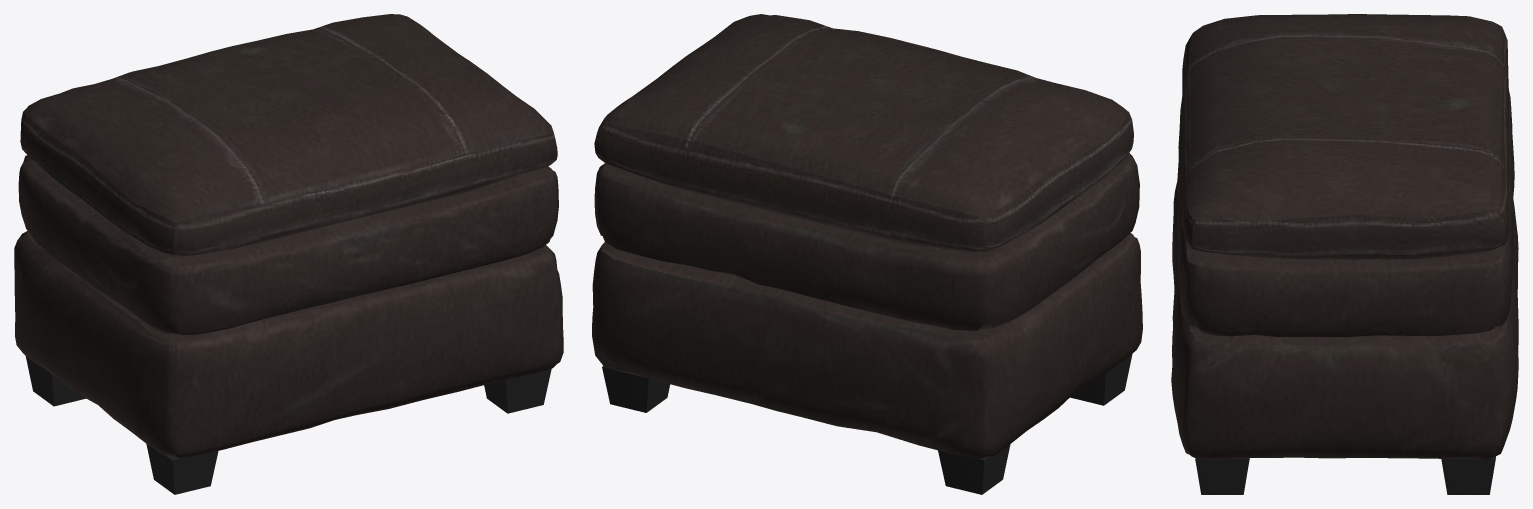
The model's file is ottoman_01.glb.
The picture shows the model from 3 angles, left to right: view 1: azimuth 30°, elevation 25°; view 2: azimuth 150°, elevation 25°; view 3: azimuth 270°, elevation 25°; orthographic projection.
Parts seen in each view (by area): view 1: Ottoman_01; view 2: Ottoman_01; view 3: Ottoman_01.
Boxes of the visible parts, x1,y1,x2,y2 form: Ottoman_01: [14, 14, 563, 494]; Ottoman_01: [592, 14, 1142, 494]; Ottoman_01: [1171, 14, 1518, 494].
Size of the model in its own units: 0.8846 by 0.6243 by 0.6211.
1 material, 1 textured.
